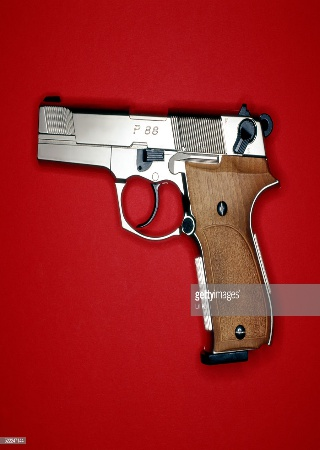handgun: (30, 91, 280, 366)
